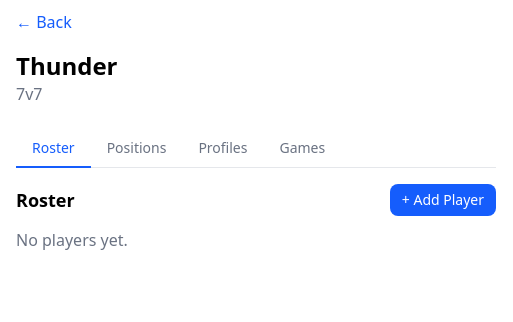
Test: TeamDetail › positions tab › shows empty positions state
This screenshot has width=513, height=322.
Expected: the heading "Thunder" is shown, [16,49,118,82]
Click the tab "Positions" at (136, 149), box [91,130,182,168]
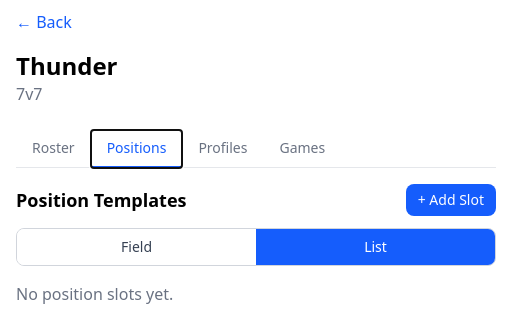
Result: the text "No position slots yet." is shown at [16,283,173,305]
